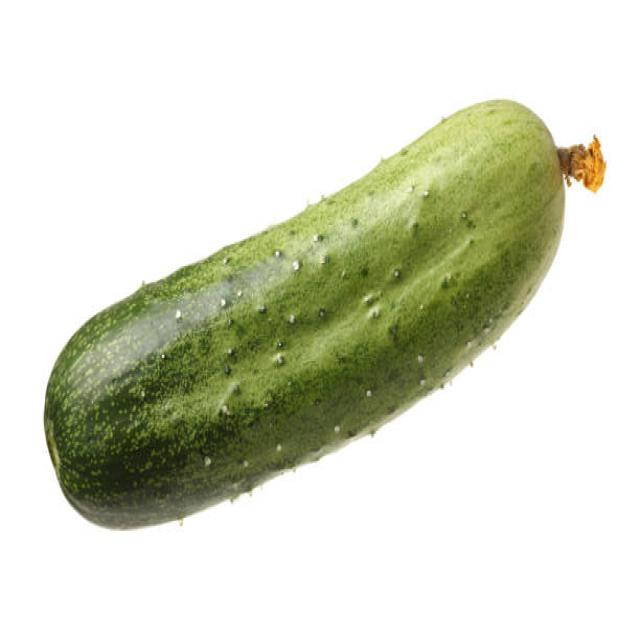cucumber: (44, 97, 566, 533)
